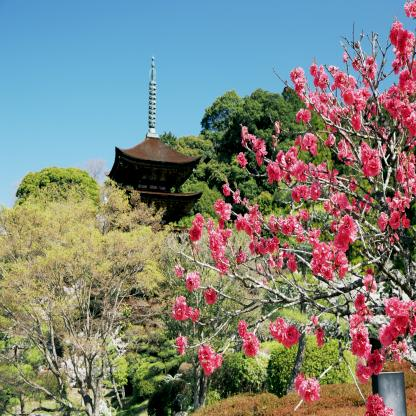Ume: (172, 0, 416, 416)
